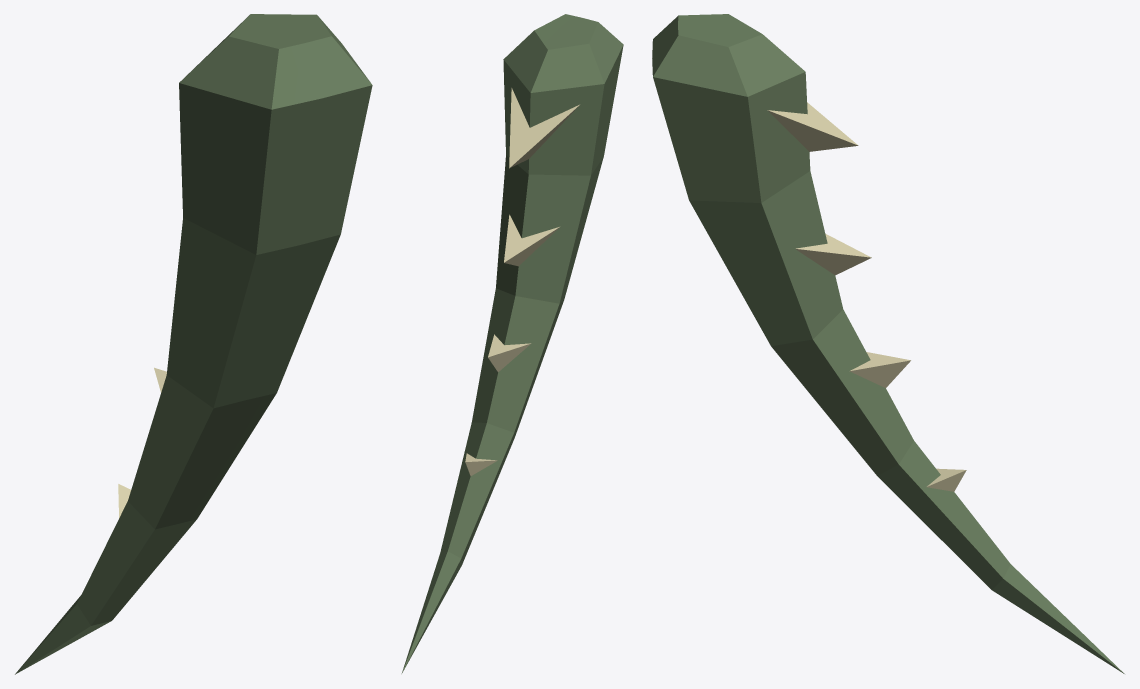
Rendered from LarvaeLegEndRB.fbx.
3 views of the same model, side by side, from view 1: azimuth 30°, elevation 25°; view 2: azimuth 150°, elevation 25°; view 3: azimuth 270°, elevation 25° (orthographic). The views are drawn at different scales.
Visible parts, largest first — view 1: Claw22; view 2: Claw22; view 3: Claw22.
Part boxes in pixels (x1=…): Claw22: x1=15, y1=14, x2=372, y2=674; Claw22: x1=401, y1=14, x2=623, y2=673; Claw22: x1=652, y1=14, x2=1124, y2=673.
Bounding box in the file's own units: 0.808 × 4.01 × 2.65.
